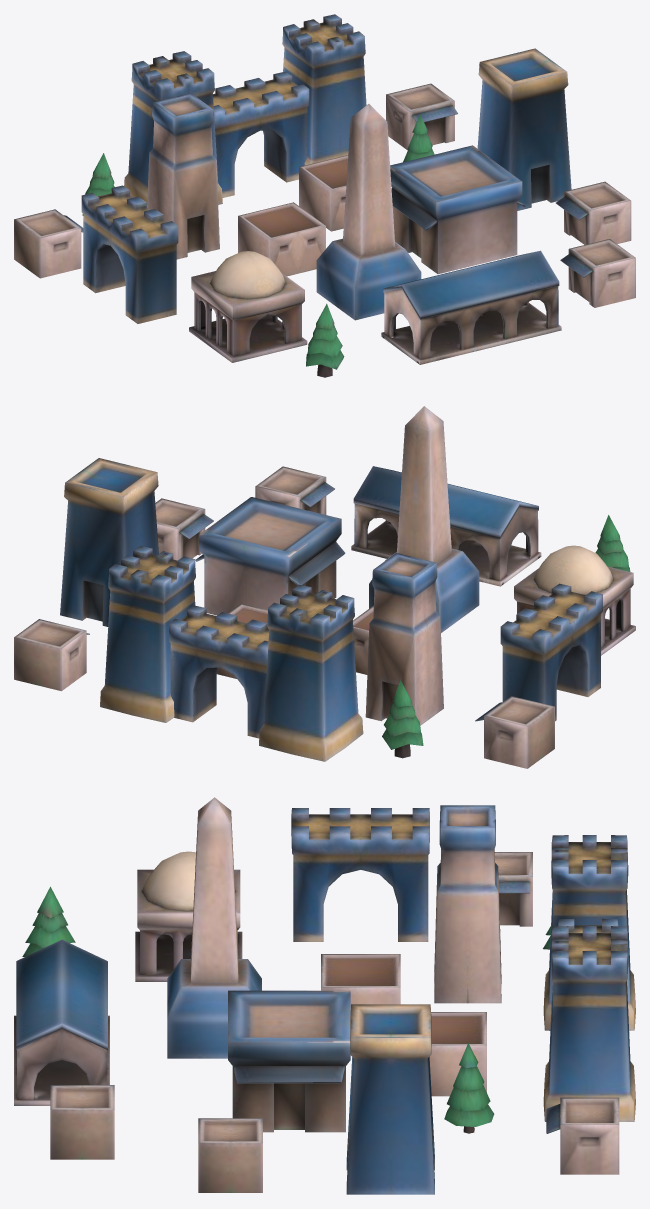
Rendered from city_babylonian_1.glb.
The picture shows the model from 3 angles, top to bottom: view 1: azimuth 30°, elevation 25°; view 2: azimuth 150°, elevation 25°; view 3: azimuth 270°, elevation 25°; orthographic projection. The views are drawn at different scales.
Visible parts, largest first — view 1: 1_low.023, 3_low.056, 3_low.060, 3_low.063, 3_low.070, 2_low.040, 2_low.041, 1_low.024, 2_low.035, 2_low.045, 3_low.074, 3_low.067 (+6 smaller); view 2: 1_low.023, 3_low.060, 3_low.070, 1_low.024, 3_low.056, 2_low.040, 3_low.063, 2_low.035, 2_low.041, 3_low.079, 3_low.074, 3_low.080 (+5 smaller); view 3: 1_low.023, 3_low.060, 3_low.070, 3_low.056, 2_low.040, 3_low.063, 1_low.024, 2_low.041, 3_low.079, 3_low.067, 3_low.080, 2_low.042 (+4 smaller).
Part boxes in pixels (box(x1,y1,x2,y2)): 1_low.023: box(124, 14, 366, 204); 3_low.056: box(381, 250, 561, 364); 3_low.060: box(390, 145, 525, 274); 3_low.063: box(316, 104, 421, 320); 3_low.070: box(477, 48, 571, 210); 2_low.040: box(81, 185, 178, 323); 2_low.041: box(189, 251, 307, 362); 1_low.024: box(147, 93, 219, 259); 2_low.035: box(213, 71, 309, 197); 2_low.045: box(238, 202, 325, 276); 3_low.074: box(14, 209, 83, 278); 3_low.067: box(560, 239, 635, 307); 1_low.023: box(100, 546, 363, 761); 3_low.060: box(195, 497, 345, 615); 3_low.070: box(60, 458, 158, 626); 1_low.024: box(365, 553, 443, 725); 3_low.056: box(351, 466, 541, 586); 2_low.040: box(500, 583, 602, 721); 3_low.063: box(369, 406, 479, 632); 2_low.035: box(169, 605, 269, 738); 2_low.041: box(514, 545, 635, 655); 3_low.079: box(14, 619, 89, 691); 3_low.074: box(475, 696, 554, 768); 3_low.080: box(155, 498, 213, 560); 1_low.023: box(543, 835, 635, 1121); 3_low.060: box(228, 990, 350, 1132); 3_low.070: box(346, 1004, 434, 1194); 3_low.056: box(14, 939, 109, 1105); 2_low.040: box(291, 808, 429, 941); 3_low.063: box(167, 797, 261, 1058); 1_low.024: box(434, 805, 501, 1003); 2_low.041: box(135, 851, 242, 981); 3_low.079: box(546, 1097, 619, 1174); 3_low.067: box(50, 1085, 114, 1159); 3_low.080: box(198, 1118, 262, 1192); 2_low.042: box(429, 1012, 486, 1096).
Bounding box in the file's own units: 21.86 × 8.48 × 19.7.
Materials: 3 (3 with a texture image).
